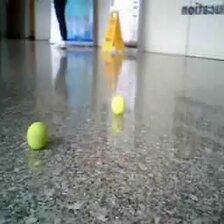tennis: (26, 122, 50, 149), (111, 97, 126, 115)
